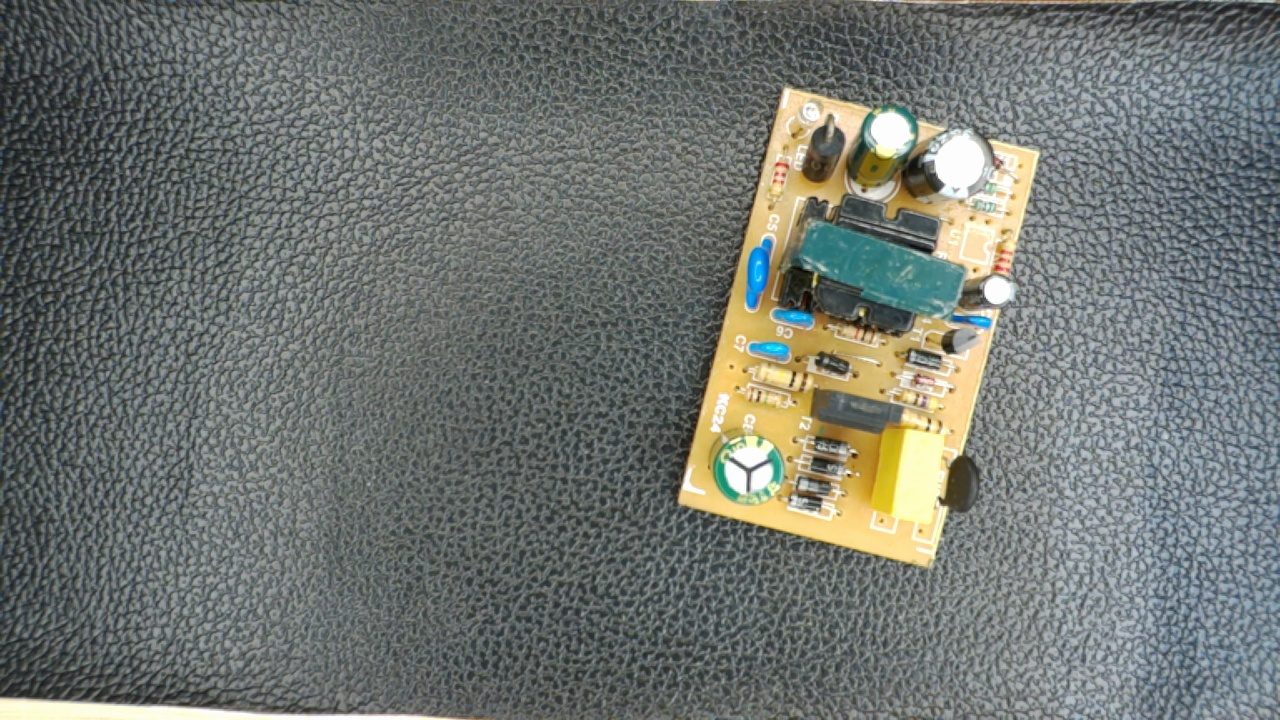fuse: (936, 444, 983, 522)
hv_capacitor: (710, 425, 786, 506)
mov: (740, 227, 777, 317)
